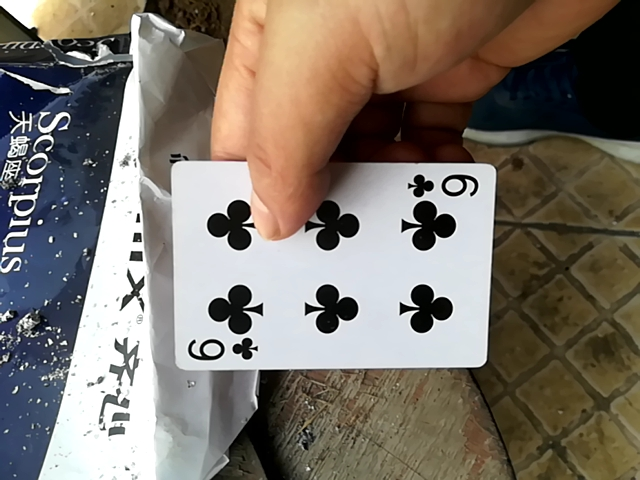mh 6: (163, 153, 495, 377)
